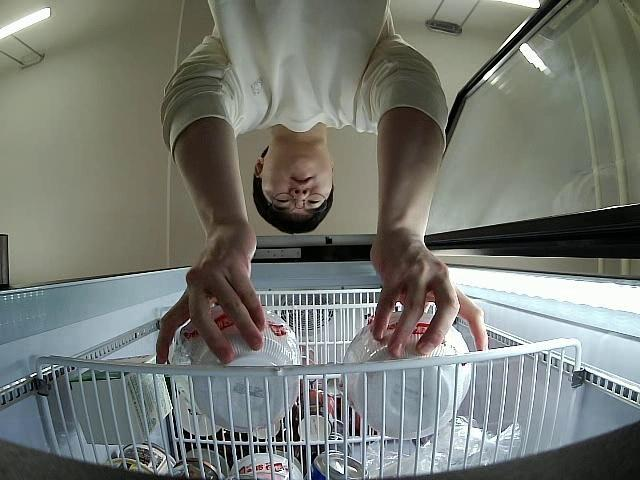09_yukGaeJang: (171, 302, 300, 430), (341, 314, 474, 438)
